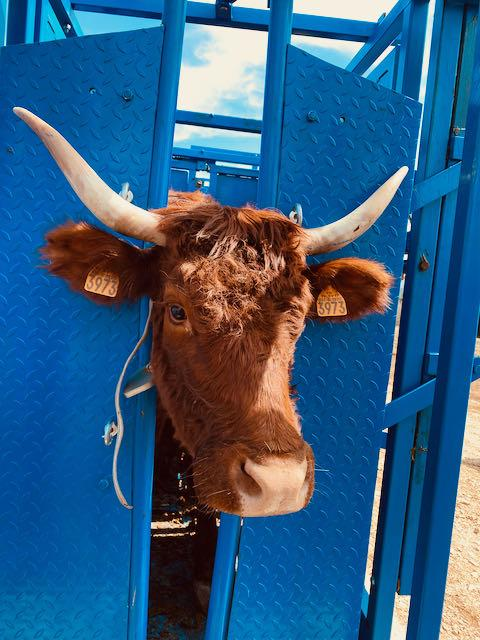muzzles: (194, 445, 318, 523)
